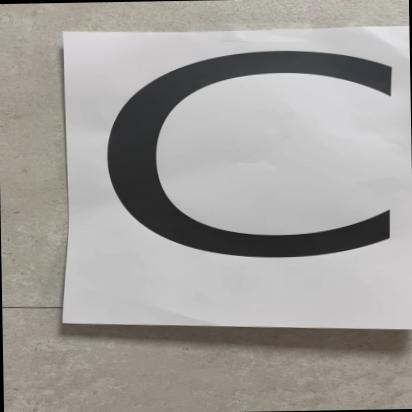seat: (62, 19, 412, 335)
